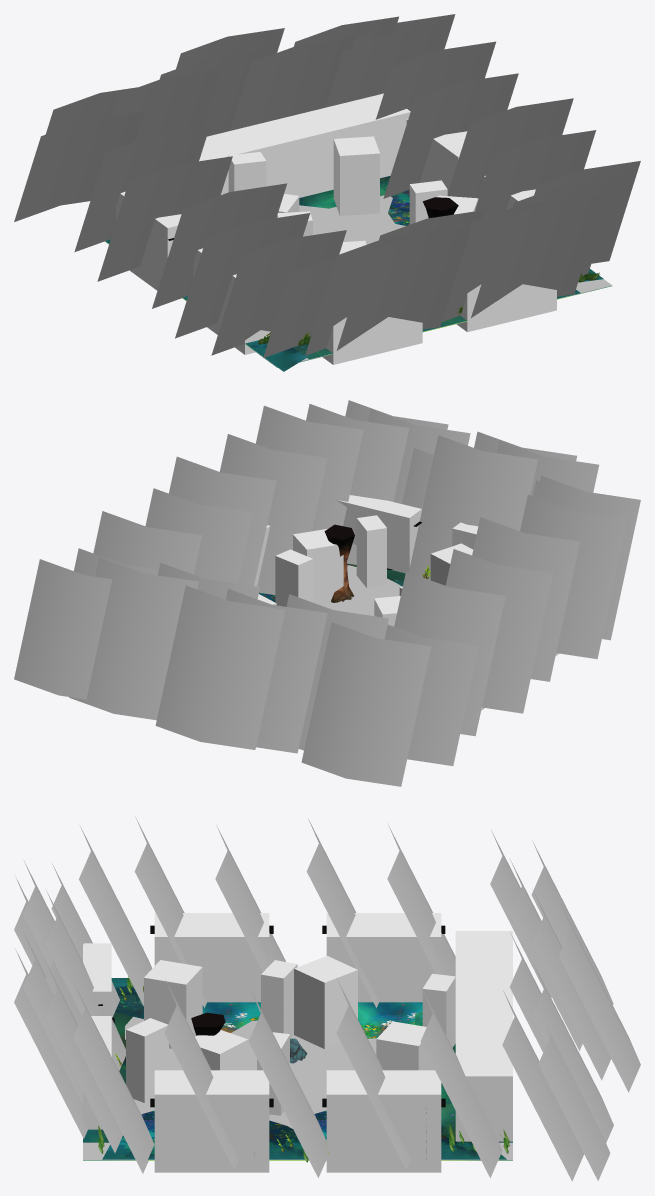
The model's file is FieldDungeon_02_001_Room_002.fbx.
3 renders of one model, top to bottom at view 1: azimuth 30°, elevation 25°; view 2: azimuth 150°, elevation 25°; view 3: azimuth 270°, elevation 25°, orthographic. The views are drawn at different scales.
Visible parts, largest first — view 1: FieldDungeon_02_001_Door_Back_001 (×2), FieldDungeon_02_001_Door_Right_001 (×2), DoorWay_NavMask (1) (×11), FieldDungeon_02_001_Door_Left_001 (×2), FieldArea_02_001_tree_1_BB, FieldDungeon_02_001_Door_Front_001 (×2), FieldArea_02_001_tree_1_AA, Cube_08, FieldArea_02_001_ground2, Cube_06, Cube_04, FieldDungeon_02_001_Door_Right_001_shadow (+3 smaller); view 2: FieldArea_02_001_tree_1_BB, FieldDungeon_02_001_Door_Right_001 (×2), FieldDungeon_02_001_Door_Left_001 (×2), FieldDungeon_02_001_Door_Front_001 (×2), FieldDungeon_02_001_Door_Back_001 (×2), FieldArea_02_001_tree_1_AA, DoorWay_NavMask (1), Cube_07, Cube_03, Cube_04, FieldArea_02_001_ground2, Dungeon_011_Object_010 (+2 smaller); view 3: DoorWay_NavMask (1) (×12), FieldArea_02_001_tree_1_BB, FieldDungeon_02_001_Door_Left_001 (×2), FieldDungeon_02_001_Door_Back_001 (×2), FieldDungeon_02_001_Door_Right_001 (×2), FieldArea_02_001_tree_1_AA, FieldDungeon_02_001_Door_Front_001 (×2), Cube_02, FieldArea_02_001_ground2, FieldDungeon_02_001_Door_Right_001_shadow (×2), Cube_01, FieldDungeon_02_001_Door_Left_001_shadow (×2) (+10 smaller).
Part boxes in pixels (x1=…): FieldDungeon_02_001_Door_Back_001 (×2): x1=305, y1=177, x2=618, y2=355; FieldDungeon_02_001_Door_Right_001 (×2): x1=74, y1=126, x2=310, y2=338; DoorWay_NavMask (1) (×11): x1=116, y1=93, x2=556, y2=364; FieldDungeon_02_001_Door_Left_001 (×2): x1=375, y1=41, x2=596, y2=218; FieldArea_02_001_tree_1_BB: x1=14, y1=14, x2=455, y2=221; FieldDungeon_02_001_Door_Front_001 (×2): x1=111, y1=16, x2=398, y2=140; FieldArea_02_001_tree_1_AA: x1=211, y1=161, x2=640, y2=357; Cube_08: x1=333, y1=136, x2=379, y2=215; FieldArea_02_001_ground2: x1=105, y1=195, x2=612, y2=366; Cube_06: x1=228, y1=152, x2=266, y2=191; Cube_04: x1=409, y1=180, x2=447, y2=224; FieldDungeon_02_001_Door_Right_001_shadow: x1=245, y1=340, x2=315, y2=371; FieldArea_02_001_tree_1_BB: x1=14, y1=548, x2=478, y2=786; FieldDungeon_02_001_Door_Right_001 (×2): x1=394, y1=494, x2=627, y2=736; FieldDungeon_02_001_Door_Left_001 (×2): x1=93, y1=434, x2=327, y2=594; FieldDungeon_02_001_Door_Front_001 (×2): x1=69, y1=557, x2=388, y2=753; FieldDungeon_02_001_Door_Back_001 (×2): x1=306, y1=400, x2=599, y2=580; FieldArea_02_001_tree_1_AA: x1=256, y1=405, x2=640, y2=640; DoorWay_NavMask (1): x1=336, y1=495, x2=421, y2=573; Cube_07: x1=293, y1=529, x2=343, y2=604; Cube_03: x1=356, y1=515, x2=386, y2=588; Cube_04: x1=275, y1=549, x2=313, y2=606; FieldArea_02_001_ground2: x1=320, y1=565, x2=401, y2=615; Dungeon_011_Object_010: x1=324, y1=524, x2=354, y2=602; DoorWay_NavMask (1) (×12): x1=83, y1=913, x2=512, y2=1172; FieldArea_02_001_tree_1_BB: x1=490, y1=830, x2=640, y2=1181; FieldDungeon_02_001_Door_Left_001 (×2): x1=164, y1=979, x2=502, y2=1177; FieldDungeon_02_001_Door_Back_001 (×2): x1=14, y1=861, x2=125, y2=1152; FieldDungeon_02_001_Door_Right_001 (×2): x1=134, y1=816, x2=455, y2=1007; FieldArea_02_001_tree_1_AA: x1=45, y1=826, x2=154, y2=1173; FieldDungeon_02_001_Door_Front_001 (×2): x1=509, y1=859, x2=613, y2=1142; Cube_02: x1=294, y1=956, x2=357, y2=1049; FieldArea_02_001_ground2: x1=83, y1=1016, x2=512, y2=1159; FieldDungeon_02_001_Door_Right_001_shadow (×2): x1=111, y1=978, x2=422, y2=1038; Cube_01: x1=144, y1=960, x2=202, y2=1048; FieldDungeon_02_001_Door_Left_001_shadow (×2): x1=102, y1=1110, x2=506, y2=1159.
Size of what is drawn, in the model's own units: 19.51 by 5.97 by 21.88.
